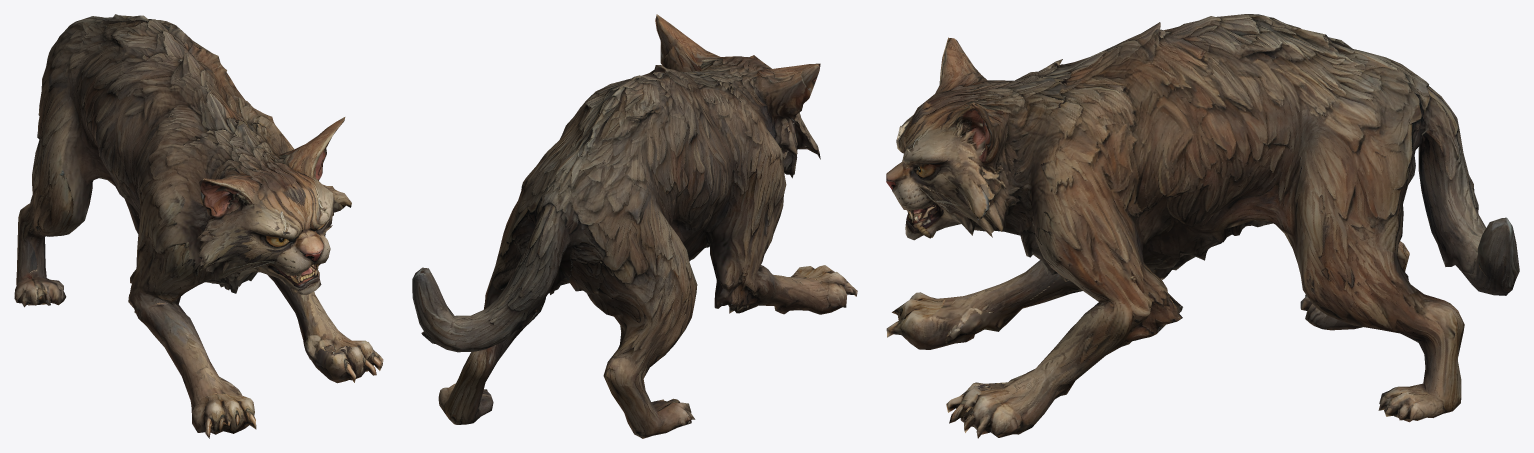
File: Cat.fbx
3 views of the same model, side by side, from view 1: azimuth 30°, elevation 25°; view 2: azimuth 150°, elevation 25°; view 3: azimuth 270°, elevation 25° (orthographic). The views are drawn at different scales.
Visible parts, largest first — view 1: texture_mapping; view 2: texture_mapping; view 3: texture_mapping.
Boxes of the visible parts, x1=… form: texture_mapping: x1=14, y1=14, x2=383, y2=438; texture_mapping: x1=412, y1=14, x2=857, y2=438; texture_mapping: x1=886, y1=14, x2=1519, y2=438.
Size of the model in its own units: 0.4782 by 0.9862 by 0.6188.
1 material, 1 textured.
